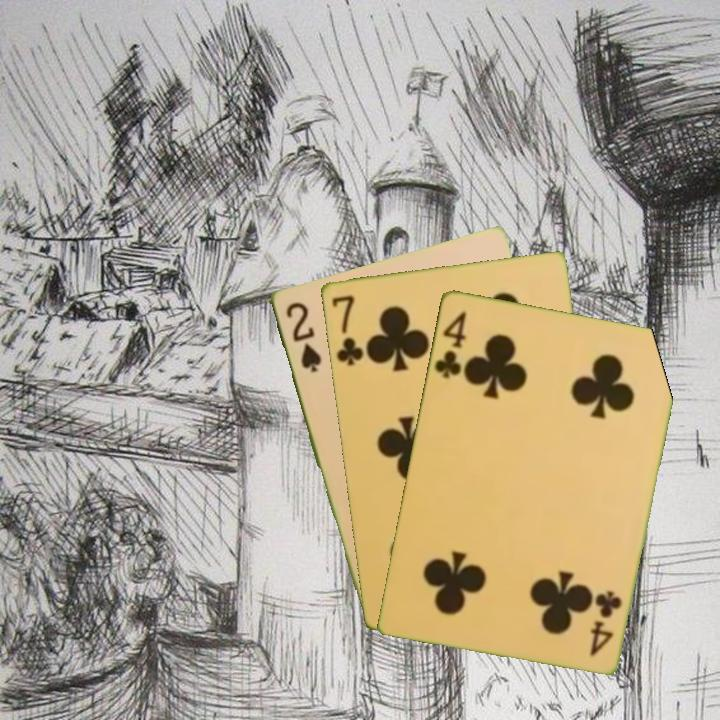2s: (281, 298, 324, 375)
4c: (430, 307, 469, 381), (586, 586, 624, 659)
7c: (327, 291, 366, 368)
